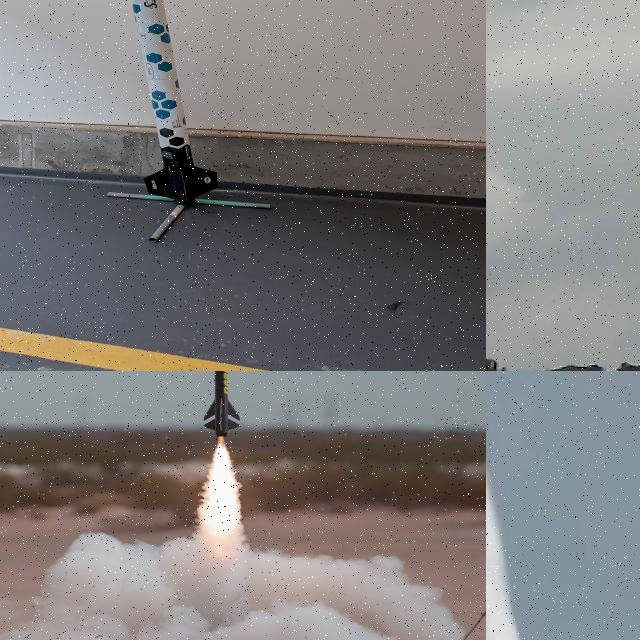Rocket: (131, 0, 217, 205), (202, 371, 242, 438)
